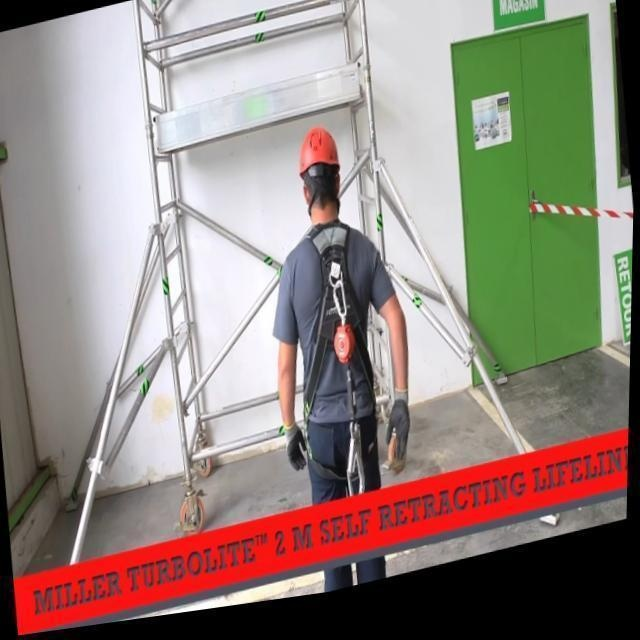Arnes_seguridad: (295, 216, 384, 439)
